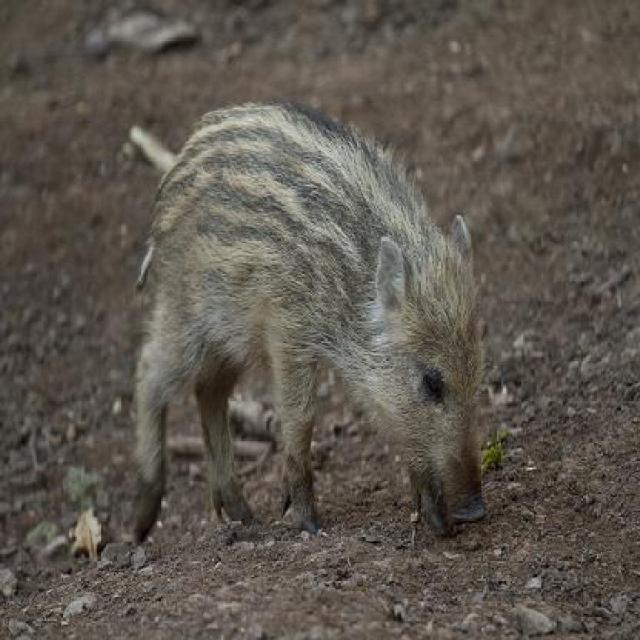pig: (118, 95, 500, 554)
